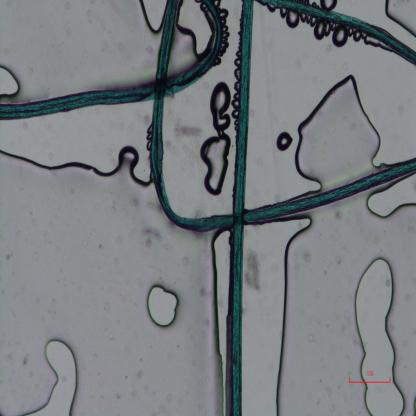Air bubble: (258, 212, 317, 415), (295, 75, 383, 194), (352, 253, 408, 415), (0, 134, 150, 190), (28, 337, 84, 416), (209, 231, 230, 412), (200, 81, 233, 196), (366, 173, 416, 222), (176, 3, 213, 56), (142, 280, 182, 328), (382, 0, 416, 36), (140, 1, 170, 32), (0, 62, 21, 103), (332, 24, 349, 46), (275, 132, 294, 150), (314, 19, 330, 40), (287, 12, 300, 30), (320, 0, 337, 11)
Background material: (245, 246, 264, 295), (172, 119, 204, 143), (142, 225, 161, 249), (144, 196, 162, 216), (22, 354, 29, 367)
Microfibre: (150, 0, 416, 233), (0, 0, 223, 121), (227, 0, 255, 414), (254, 0, 416, 65)
